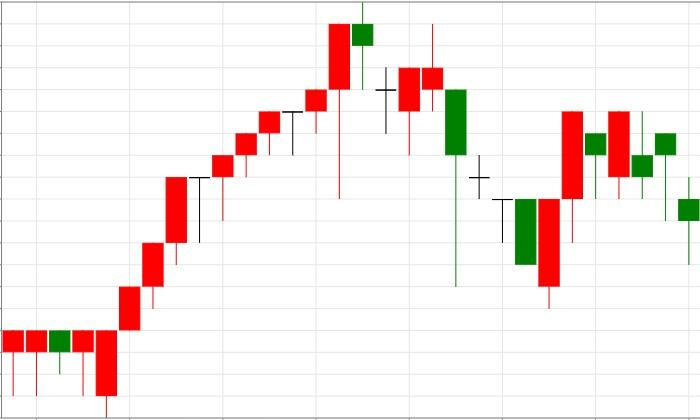three_white_soldiers_rise: (3, 176, 187, 418)
